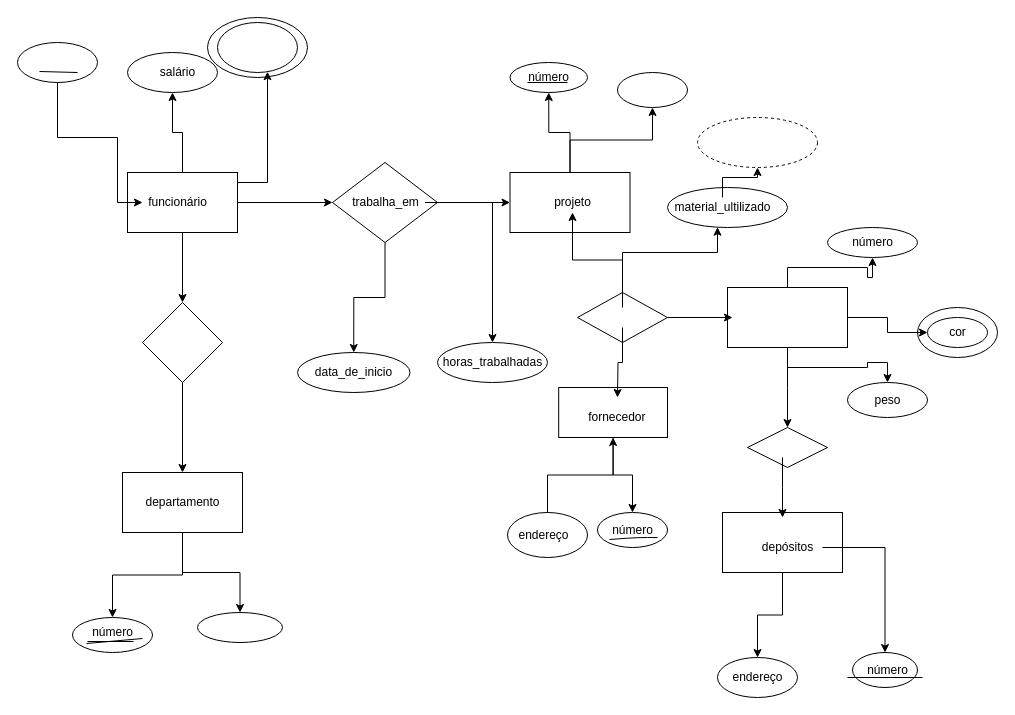
This 1015x715 diagram has some shape labels left out. Here are the shapes that lost their labels. From the top down, the box of each, then its label:
(16, 42, 98, 82): nome
(216, 22, 298, 72): telefone
(616, 72, 688, 108): orçamento
(696, 116, 818, 168): fornecedor_ultilizado
(576, 292, 668, 342): ultiliza_de
(726, 286, 848, 348): peças
(142, 302, 222, 382): associado_A
(746, 426, 828, 468): contém
(196, 612, 282, 642): setor
